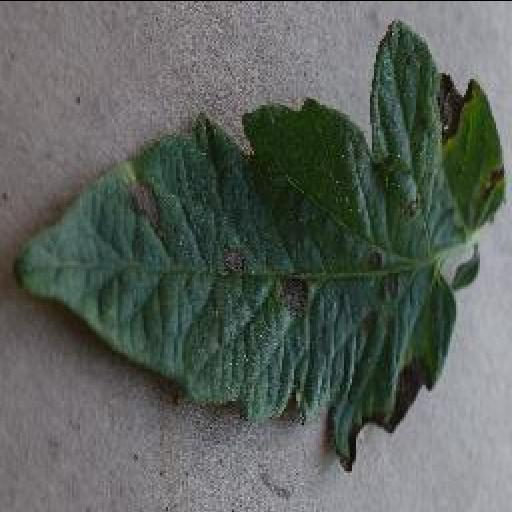disease_tomato: (14, 18, 504, 468)
